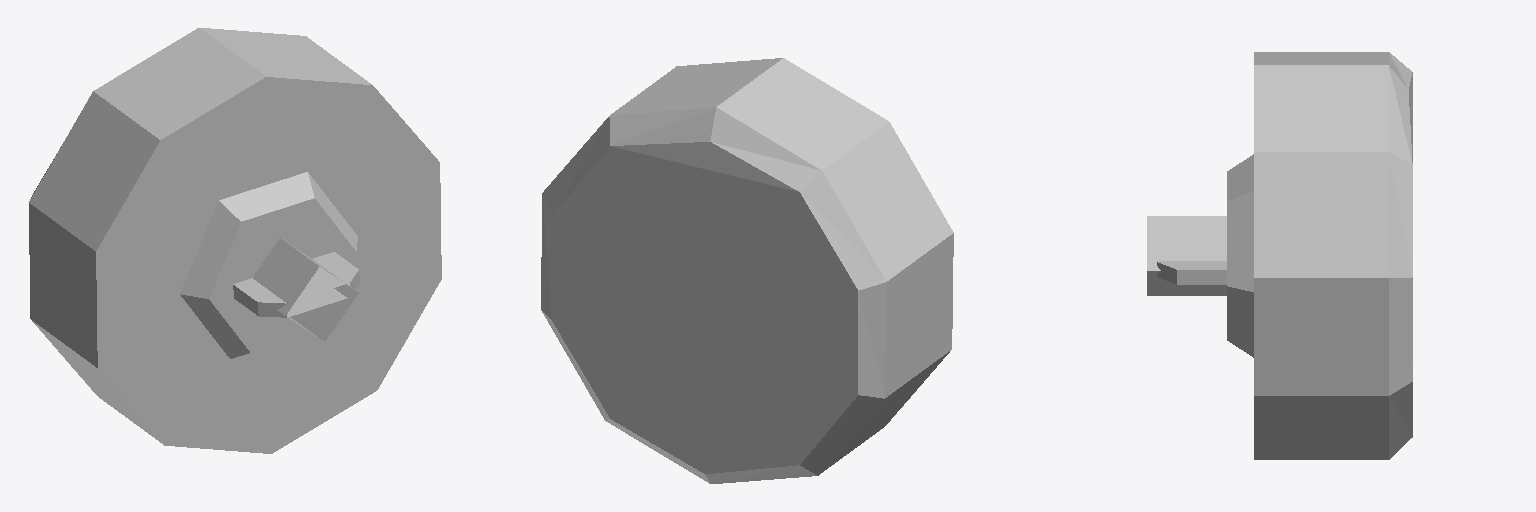
Rendered from wheel13.obj.
The picture shows the model from 3 angles: view 1: azimuth 30°, elevation 25°; view 2: azimuth 150°, elevation 25°; view 3: azimuth 270°, elevation 25°; orthographic projection.
Visible parts, largest first — view 1: wheel_low_textures; view 2: wheel_low_textures; view 3: wheel_low_textures.
Part boxes in pixels (bbox=[...]): wheel_low_textures: bbox=[29, 28, 441, 453]; wheel_low_textures: bbox=[541, 58, 953, 483]; wheel_low_textures: bbox=[1147, 52, 1412, 459].
Bounding box in the file's own units: 1.49 × 1.56 × 0.9907.